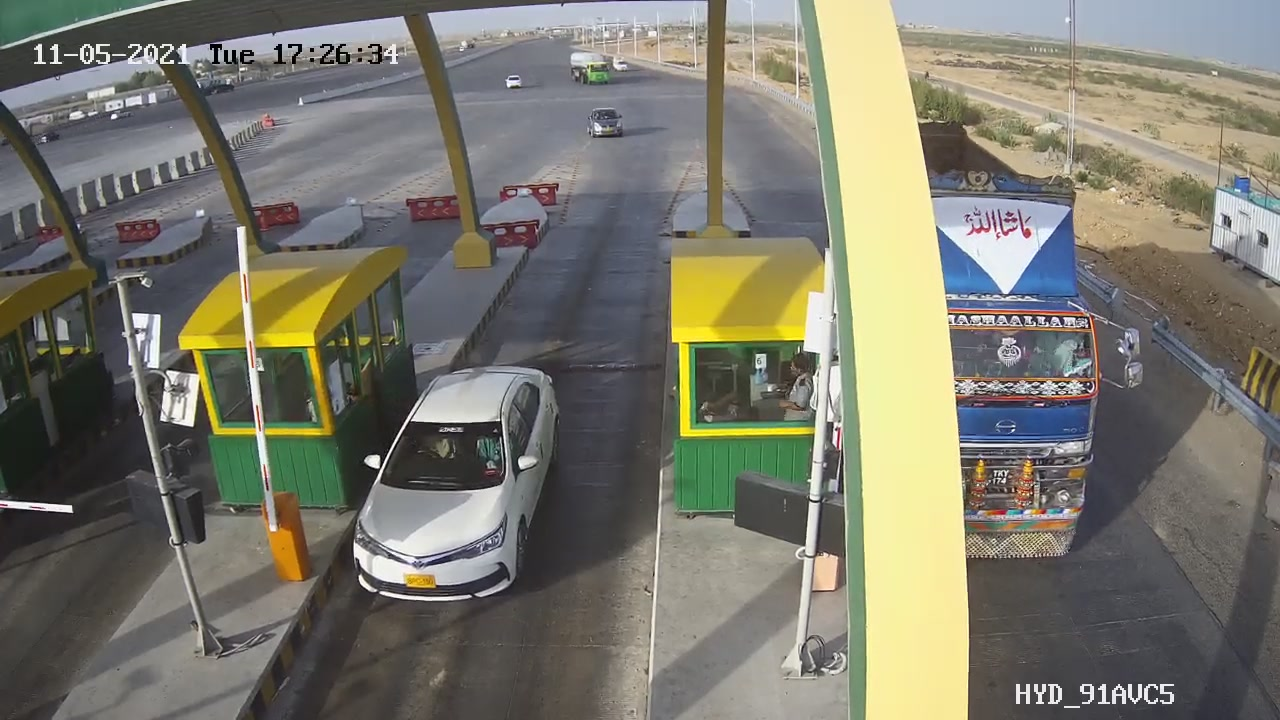F1: (342, 349, 577, 621)
